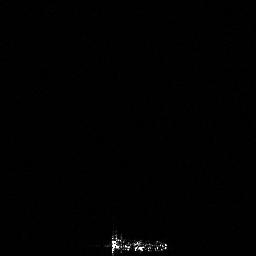ship: (108, 229, 168, 256)
